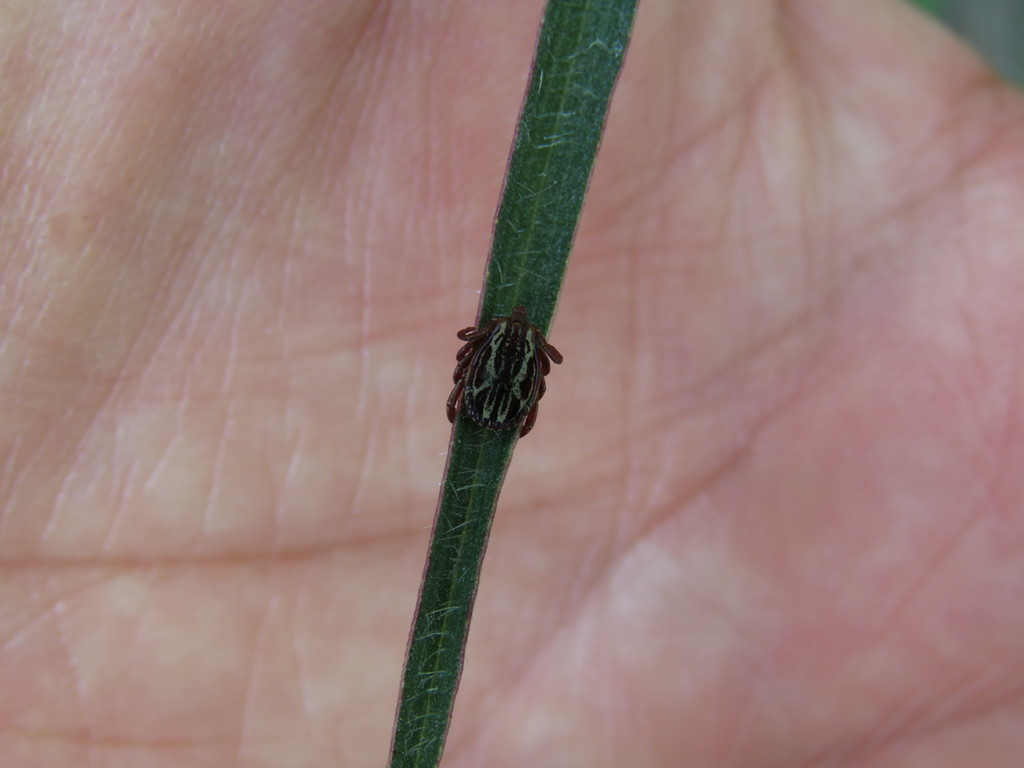garrapata: (427, 313, 568, 448)
